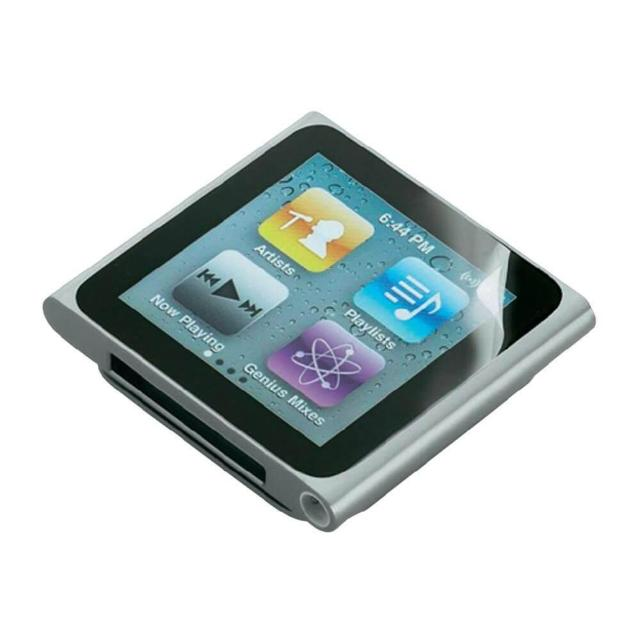Music-Player: (38, 95, 608, 539)
